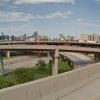Bridge: (3, 32, 96, 62)
